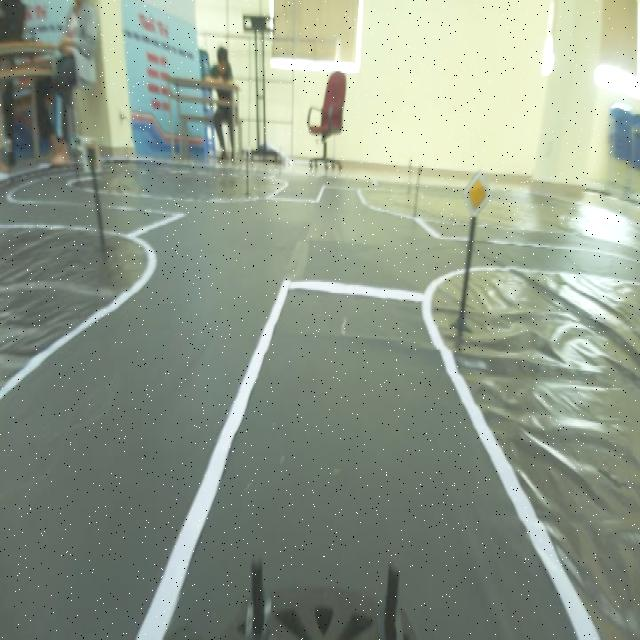priority: (460, 165, 496, 225)
